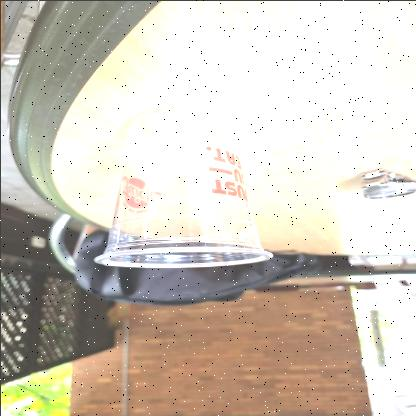Others: (95, 103, 274, 267)
